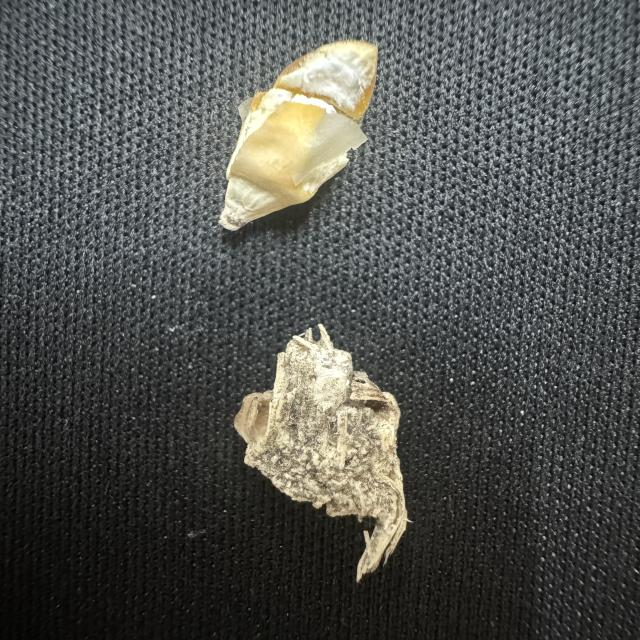Bad-Seed: (228, 320, 420, 584), (215, 35, 388, 237)
